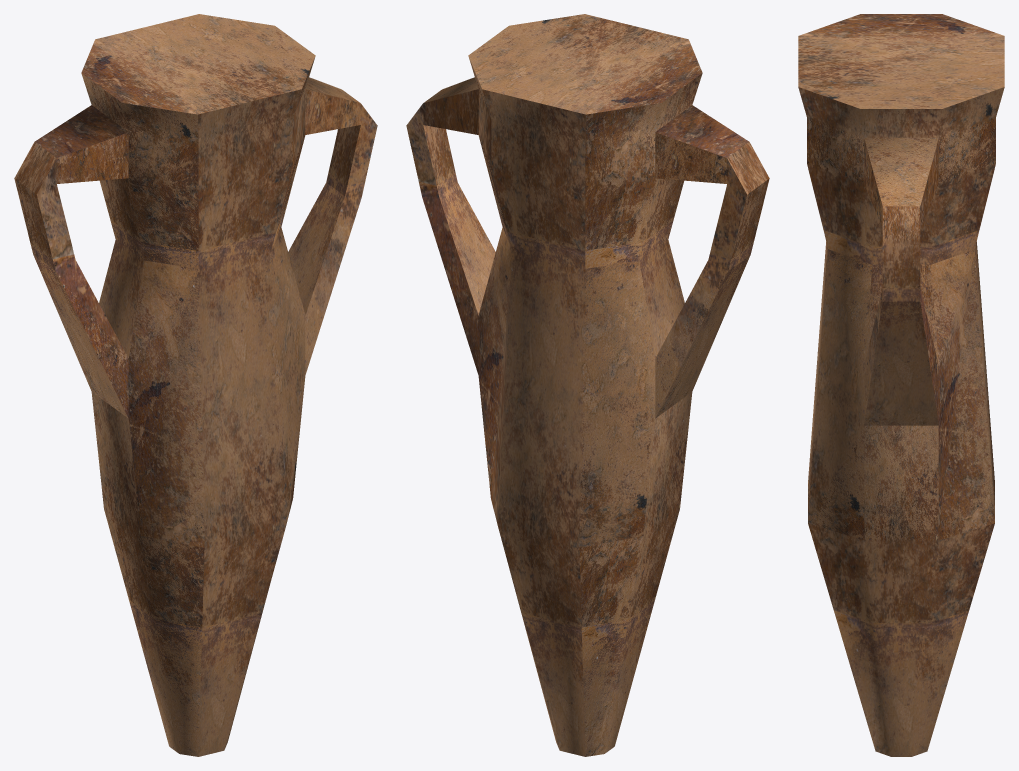
The model's file is Amphore.FBX.
3 views of the same model, side by side, from view 1: azimuth 30°, elevation 25°; view 2: azimuth 150°, elevation 25°; view 3: azimuth 270°, elevation 25° (orthographic).
Visible parts, largest first — view 1: Cylinder001; view 2: Cylinder001; view 3: Cylinder001.
Boxes of the visible parts, x1=… form: Cylinder001: x1=14, y1=14, x2=377, y2=756; Cylinder001: x1=406, y1=14, x2=769, y2=756; Cylinder001: x1=798, y1=14, x2=1004, y2=756.
Bounding box in the file's own units: 281 × 533 × 146.
